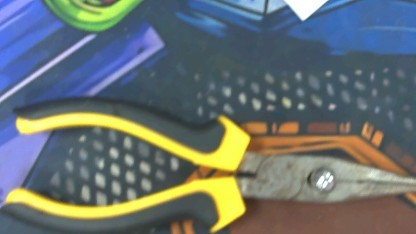ironball: (309, 163, 336, 189)
